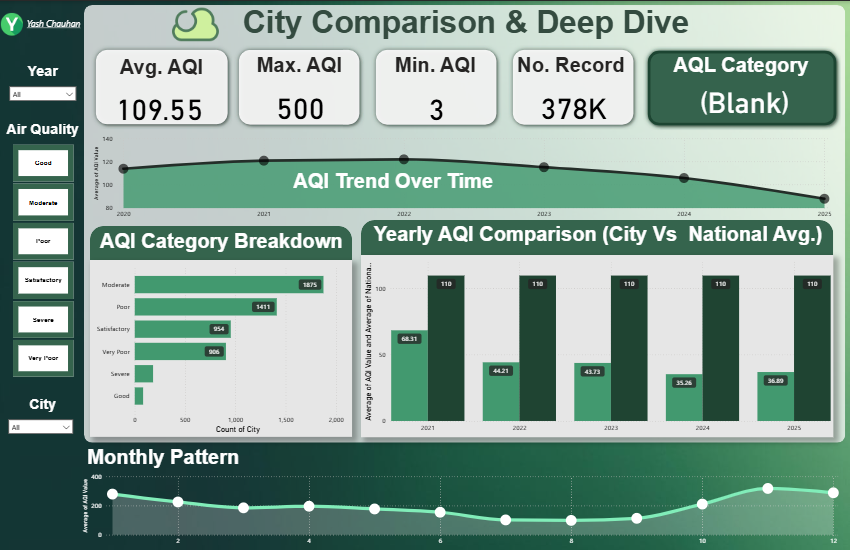

This screenshot's page, from the dashboard's own definition file:
{"tool":"powerbi","page":{"name":"Page 2","canvas":[1580,1020],"ordinal":1},"visuals":[{"type":"shape","box":[158,8,1412,812],"z":0},{"type":"image","box":[2.3,17.8,44.4,48.9],"z":0,"group":"g3"},{"type":"textbox","box":[46.7,25.6,147.8,32.2],"z":1000,"group":"g3"},{"type":"shape","box":[436.5,82,241.7,156.7],"z":1000},{"type":"lineChart","fields":{"Category":["AQI_2020_to_2025_October_clean (2).Date.Variation.Date Hierarchy.Year","AQI_2020_to_2025_October_clean (2).Date.Variation.Date Hierarchy.Quarter","AQI_2020_to_2025_October_clean (2).Date.Variation.Date Hierarchy.Month","AQI_2020_to_2025_October_clean (2).Date.Variation.Date Hierarchy.Day"],"Y":["Avg(AQI_2020_to_2025_October_clean (2).AQI Value)"]},"box":[168,242,1380,172],"z":2000},{"type":"shape","box":[170,82,262.4,156.2],"z":3000},{"type":"slicer","fields":{"Values":["AQI_2020_to_2025_October_clean (2).Date.Variation.Date Hierarchy.Year"]},"box":[8.9,148.9,144.4,42.2],"z":4000},{"type":"shape","box":[944.2,82,241.7,156.7],"z":5000},{"type":"slicer","fields":{"Values":["AQI_2020_to_2025_October_clean (2).City"]},"box":[7.8,766.7,140,50],"z":6000},{"type":"shape","box":[690.4,82,241.7,156.7],"z":7000},{"type":"slicer","fields":{"Values":["AQI_2020_to_2025_October_clean (2).Air Quality"]},"box":[0,260,162.2,444.4],"z":8000},{"type":"card","fields":{"Values":["AQI_2020_to_2025_October_clean (2).Max AQI"]},"box":[452.7,153.9,211.2,79.3],"z":9000},{"type":"textbox","box":[169.9,0,1292.3,94.8],"z":10000},{"type":"card","fields":{"Values":["AQI_2020_to_2025_October_clean (2).Average AQI"]},"box":[193.1,156.5,210,78.1],"z":11000},{"type":"textbox","box":[530,308,460,68],"z":12000},{"type":"card","fields":{"Values":["AQI_2020_to_2025_October_clean (2).City Record Count"]},"box":[960.5,153.9,211.2,79.3],"z":13000},{"type":"textbox","box":[0,108.9,162.2,48.9],"z":14000},{"type":"shape","box":[168,418,486,99.9],"z":14000,"group":"g1"},{"type":"card","fields":{"Values":["AQI_2020_to_2025_October_clean (2).Min AQI"]},"box":[706.6,155.7,211.2,79.3],"z":15000},{"type":"shape","box":[672,406,876,100],"z":15000,"group":"g2"},{"type":"textbox","box":[0,217.8,162.2,48.9],"z":16000},{"type":"clusteredBarChart","fields":{"Category":["AQI_2020_to_2025_October_clean (2).Air Quality"],"Y":["CountNonNull(AQI_2020_to_2025_October_clean (2).City)"]},"box":[168,480.2,486,327.8],"z":17000,"group":"g1"},{"type":"textbox","box":[0,727.8,162.2,48.9],"z":17000},{"type":"clusteredColumnChart","fields":{"Category":["AQI_2020_to_2025_October_clean (2).Date.Variation.Date Hierarchy.Year"],"Y":["Avg(AQI_2020_to_2025_October_clean (2).AQI Value)","Avg(AQI_2020_to_2025_October_clean (2).National Avg AQI)"]},"box":[672,470.2,876,337.8],"z":18000,"group":"g2"},{"type":"areaChart","fields":{"Category":["AQI_2020_to_2025_October_clean (2).Month Number "],"Y":["Avg(AQI_2020_to_2025_October_clean (2).AQI Value)"]},"box":[148,868,1414,152],"z":18000},{"type":"group","id":"g1","title":"Group 2","box":[168,418,486,390],"z":19000},{"type":"group","id":"g2","title":"Group 3","box":[672,406,876,402],"z":20000},{"type":"textbox","box":[148,820,460,68],"z":21000},{"type":"shape","box":[1194.6,83.8,367.4,156.2],"z":22000},{"type":"card","fields":{"Values":["AQI_2020_to_2025_October_clean (2).Dominant AQI Category"]},"box":[1221.9,132.9,321.2,96.3],"z":23000},{"type":"textbox","box":[191,96.5,220.5,63.6],"z":24000},{"type":"textbox","box":[954.2,92.1,221,88.2],"z":25000},{"type":"textbox","box":[699.1,92.9,220.5,63.6],"z":26000},{"type":"textbox","box":[447.1,92.9,220.5,63.6],"z":27000},{"type":"textbox","box":[1200.9,92.9,348.5,63.6],"z":28000},{"type":"textbox","box":[176,419.9,472,60.3],"z":28000,"group":"g1"},{"type":"group","id":"g3","title":"Group 1","box":[2.3,17.8,192.2,48.9],"z":28001},{"type":"textbox","box":[676.3,406,871.7,66.1],"z":29000,"group":"g2"}]}

Visuals, with their boxes in screenshot pixels (x1, y1, x2, y2), scaled from the page's 1580x1020 canvas onto the 850x550 screenshot:
shape: 85/4/845/442
image: 1/10/25/36
textbox: 25/14/105/31
shape: 235/44/365/129
lineChart - AQI_2020_to_2025_October_clean (2).Date.Variation.Date Hierarchy.Year x AQI_2020_to_2025_October_clean (2).Date.Variation.Date Hierarchy.Quarter: 90/130/833/223
shape: 91/44/233/128
slicer - AQI_2020_to_2025_October_clean (2).Date.Variation.Date Hierarchy.Year: 5/80/82/103
shape: 508/44/638/129
slicer - AQI_2020_to_2025_October_clean (2).City: 4/413/80/440
shape: 371/44/501/129
slicer - AQI_2020_to_2025_October_clean (2).Air Quality: 0/140/87/380
card - AQI_2020_to_2025_October_clean (2).Max AQI: 244/83/357/126
textbox: 91/0/787/51
card - AQI_2020_to_2025_October_clean (2).Average AQI: 104/84/217/126
textbox: 285/166/533/203
card - AQI_2020_to_2025_October_clean (2).City Record Count: 517/83/630/126
textbox: 0/59/87/85
shape: 90/225/352/279
card - AQI_2020_to_2025_October_clean (2).Min AQI: 380/84/494/127
shape: 362/219/833/273
textbox: 0/117/87/144
clusteredBarChart - AQI_2020_to_2025_October_clean (2).Air Quality x CountNonNull(AQI_2020_to_2025_October_clean (2).City): 90/259/352/436
textbox: 0/392/87/419
clusteredColumnChart - AQI_2020_to_2025_October_clean (2).Date.Variation.Date Hierarchy.Year x Avg(AQI_2020_to_2025_October_clean (2).AQI Value): 362/254/833/436
areaChart - AQI_2020_to_2025_October_clean (2).Month Number  x Avg(AQI_2020_to_2025_October_clean (2).AQI Value): 80/468/840/549
"Group 2" group: 90/225/352/436
"Group 3" group: 362/219/833/436
textbox: 80/442/327/479
shape: 643/45/840/129
card - AQI_2020_to_2025_October_clean (2).Dominant AQI Category: 657/72/830/124
textbox: 103/52/221/86
textbox: 513/50/632/97
textbox: 376/50/495/84
textbox: 241/50/359/84
textbox: 646/50/834/84
textbox: 95/226/349/259
"Group 1" group: 1/10/105/36
textbox: 364/219/833/255
